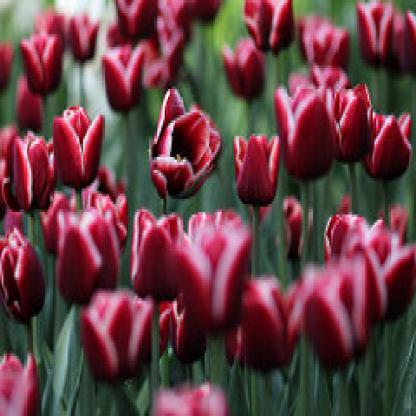TULIP: (8, 19, 403, 391)
